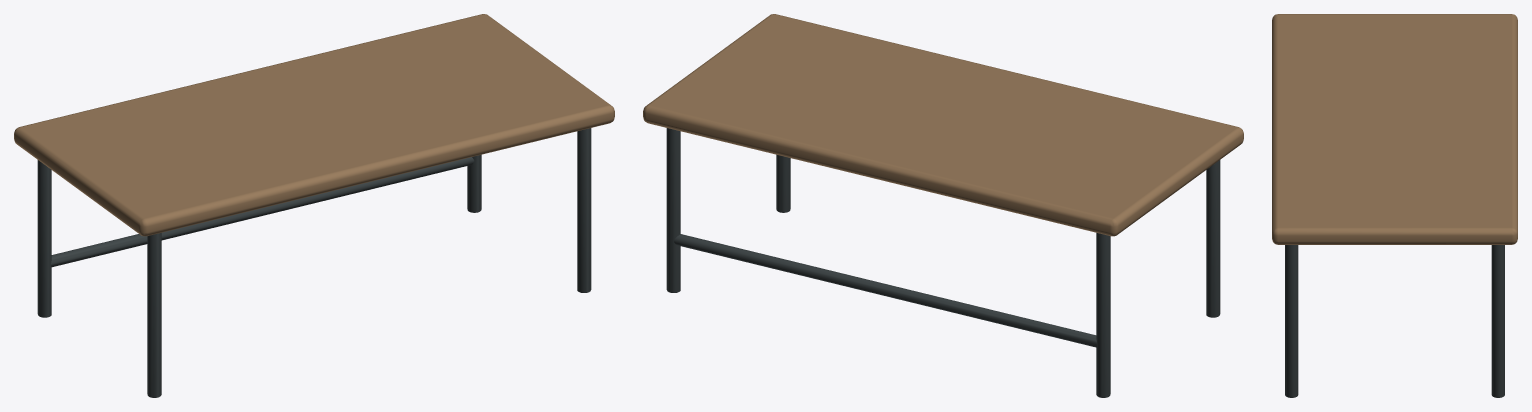
File: P_DiningTable.fbx
The picture shows the model from 3 angles, left to right: view 1: azimuth 30°, elevation 25°; view 2: azimuth 150°, elevation 25°; view 3: azimuth 270°, elevation 25°; orthographic projection. The views are drawn at different scales.
Visible parts, largest first — view 1: P_DiningTable; view 2: P_DiningTable; view 3: P_DiningTable.
Part boxes in pixels (x1,y1,x2,y2): P_DiningTable: (14, 14, 614, 397); P_DiningTable: (643, 14, 1243, 397); P_DiningTable: (1272, 14, 1517, 397).
Size of the model in its own units: 2.1 by 0.7875 by 1.
